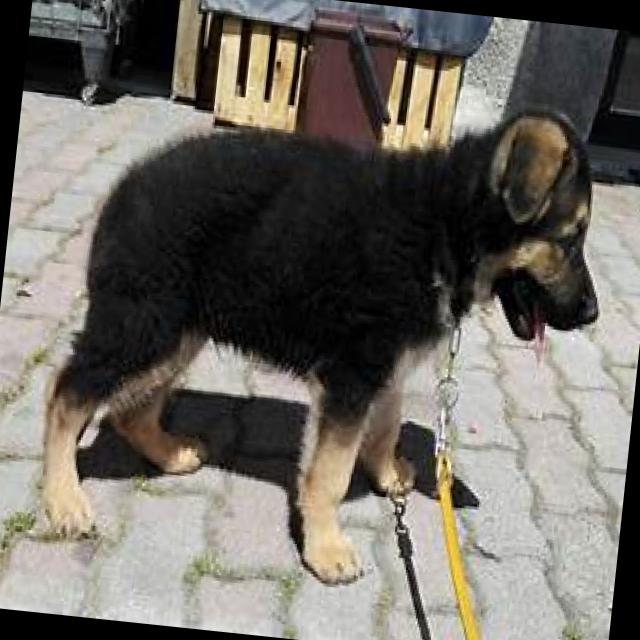animal: (9, 39, 630, 620)
